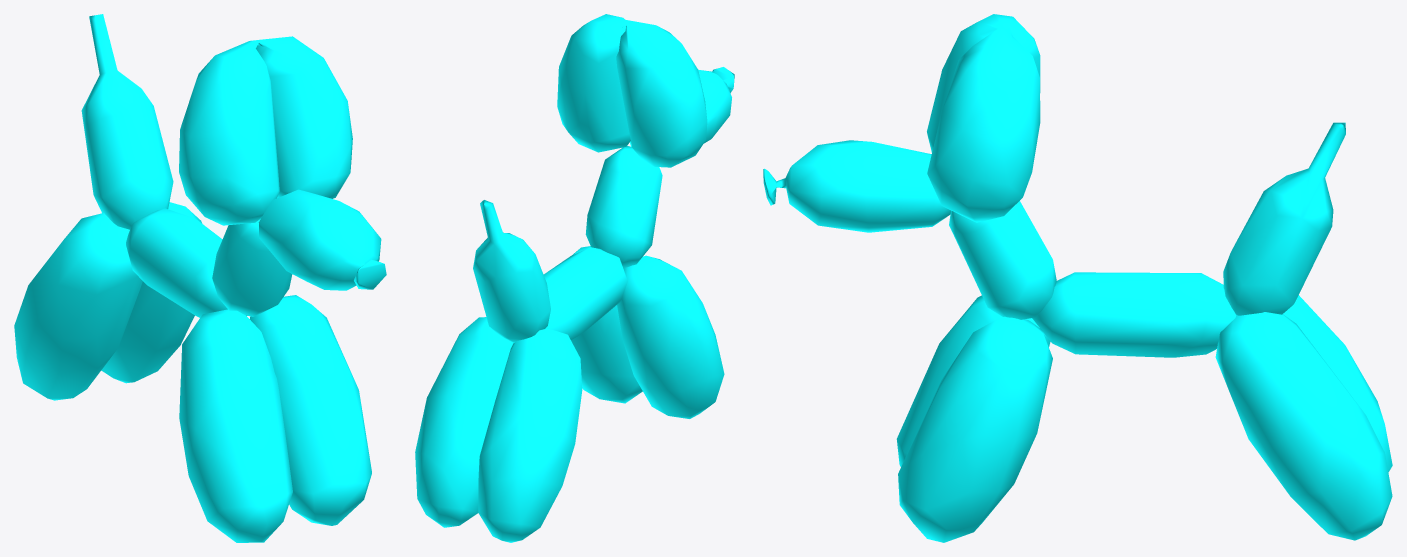
3 views of the same model, side by side, from view 1: azimuth 30°, elevation 25°; view 2: azimuth 150°, elevation 25°; view 3: azimuth 270°, elevation 25° (orthographic). The views are drawn at different scales.
Visible parts, largest first — view 1: BalloonAnimalShortCyan; view 2: BalloonAnimalShortCyan; view 3: BalloonAnimalShortCyan.
Part boxes in pixels (<box>): BalloonAnimalShortCyan: <box>14,14,386,542</box>; BalloonAnimalShortCyan: <box>415,14,734,542</box>; BalloonAnimalShortCyan: <box>763,14,1392,542</box>.
Size of what is drawn, in the model's own units: 0.2112 by 0.561 by 0.6487.
1 material, 1 textured.
